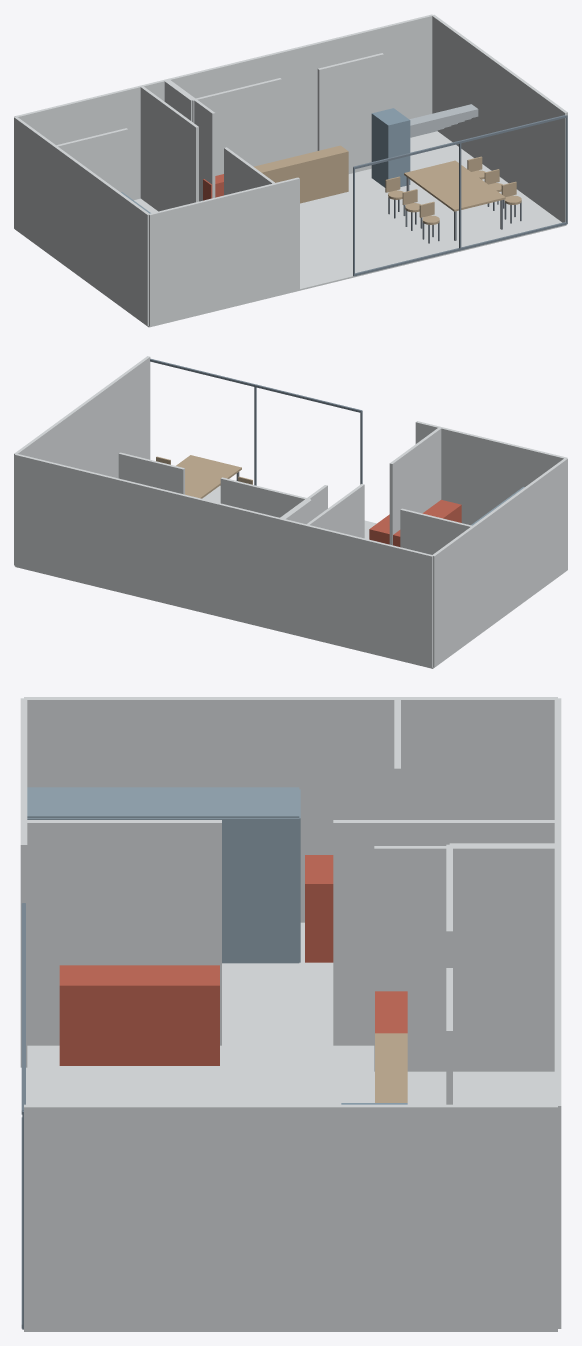
3 views of the same model, one above another, from view 1: azimuth 30°, elevation 25°; view 2: azimuth 150°, elevation 25°; view 3: azimuth 270°, elevation 25° (orthographic). The views are drawn at different scales.
Visible parts, largest first — view 1: walls, floor, fixtures (×4), frame; view 2: walls, fixtures (×2), frame, floor; view 3: walls, fixtures (×3), floor, frame.
Part boxes in pixels (x1,y1,x2,y2): walls: (14, 14, 567, 326); floor: (31, 131, 566, 327); fixtures (×4): (254, 104, 521, 243); frame: (353, 115, 567, 276); walls: (14, 356, 567, 667); fixtures (×2): (156, 455, 461, 546); frame: (150, 358, 362, 485); floor: (15, 485, 557, 668); walls: (20, 697, 561, 1330); fixtures (×3): (27, 787, 407, 1102); floor: (24, 922, 557, 1331); frame: (21, 903, 25, 1329).
Bounding box in the file's own units: 10.07 × 2.58 × 5.61.
